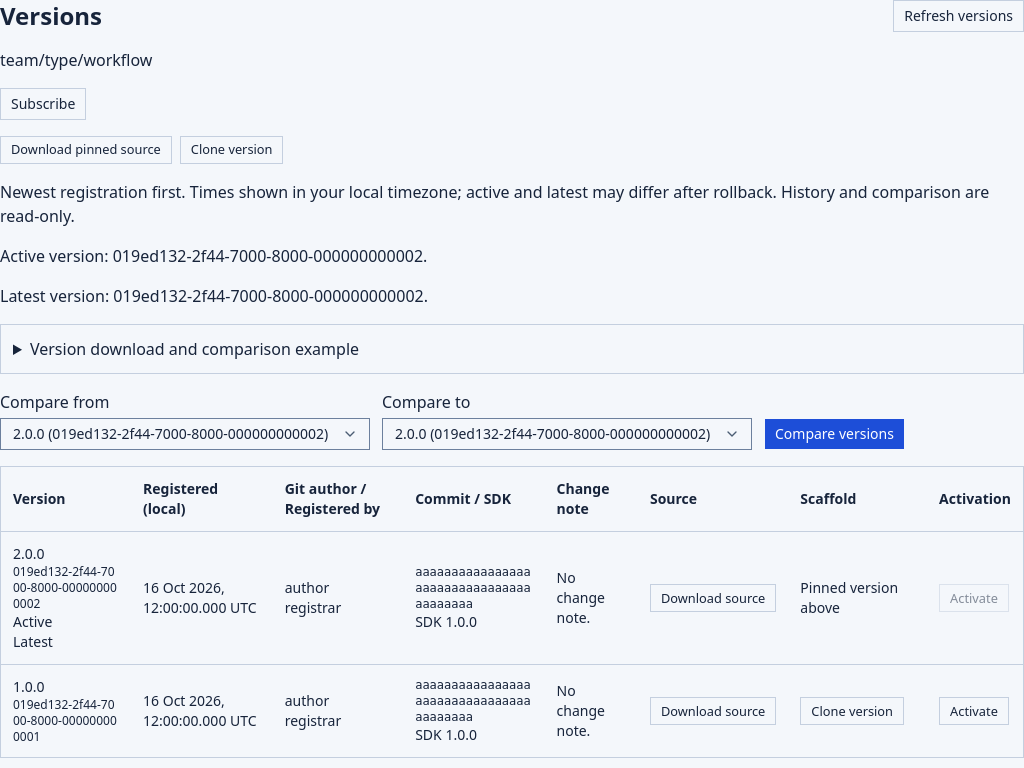
Admin-only immutable version activation › requires an explicit exact-version confirmation and restores focus on cancel without mutation
Click the button "Activate" in the row of "019ed132-2f44-7000-8000-000000000001": {"x": 974, "y": 711} [939,697,1009,725]
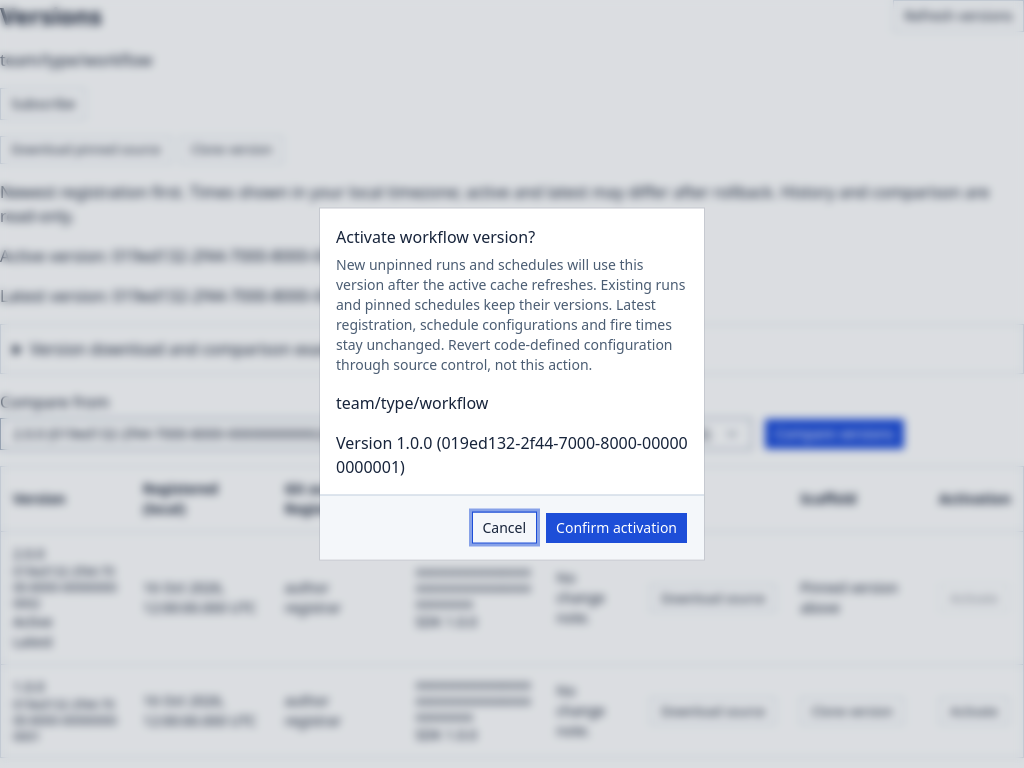
expect the dialog shows "team/type/workflow": met, box [336,392,488,414]
expect the dialog shows "Existing runs and pinned schedules keep their versions": met, box [336,254,685,374]
expect the dialog shows "Revert code-defined configuration through source control": met, box [336,254,685,374]
Click the button "Cancel": {"x": 504, "y": 528} [472,512,537,544]
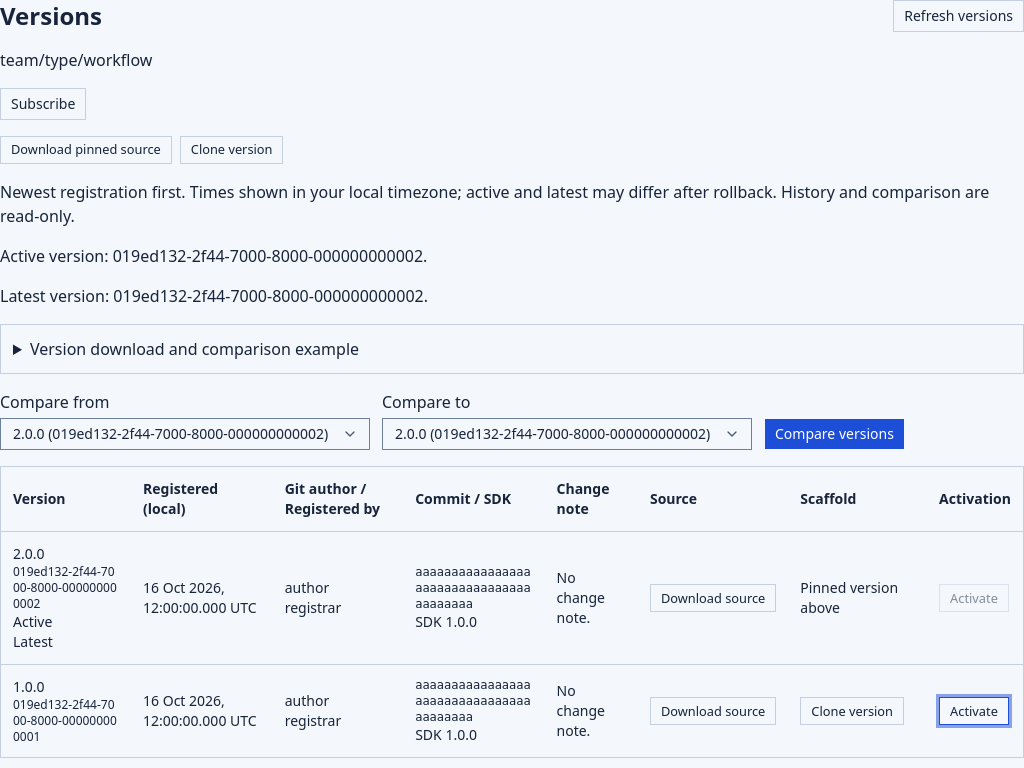
expect the dialog is gone: met
